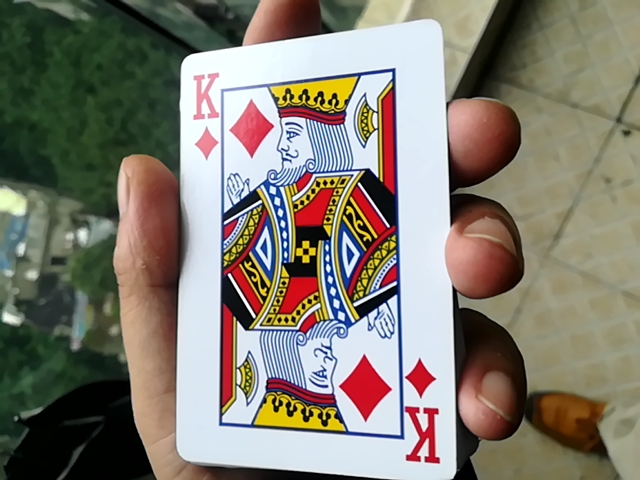fk k: (167, 7, 463, 468)
